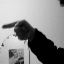g: (1, 18, 34, 41)
